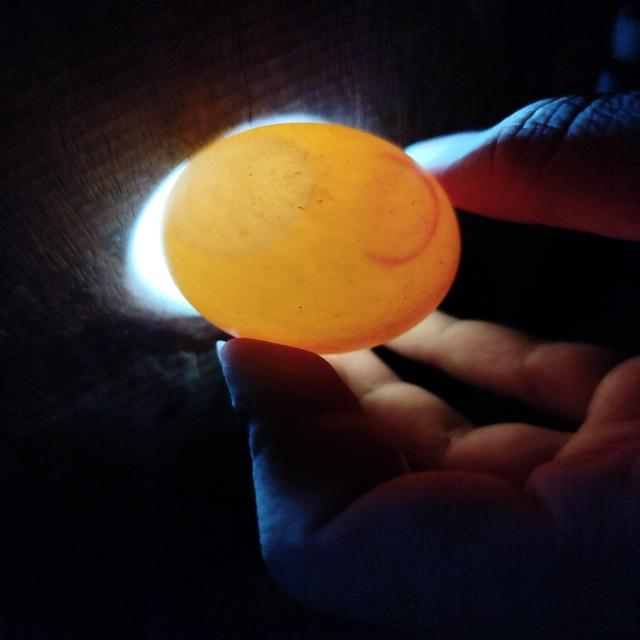Camara de Ar: (165, 133, 309, 256)
Gema Quebrada: (231, 243, 460, 354)
